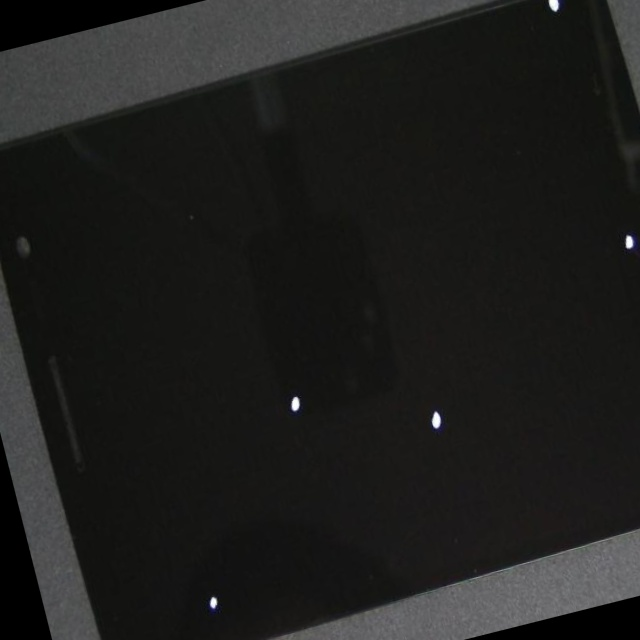stain: (133, 139, 640, 640), (61, 152, 477, 640), (274, 22, 640, 451), (24, 300, 301, 640), (215, 0, 640, 129)
